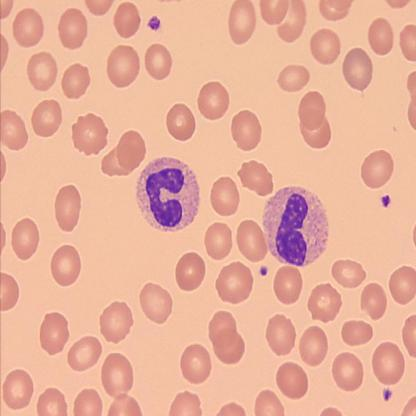Band Neutrophil: (260, 183, 332, 268), (133, 153, 202, 235)
